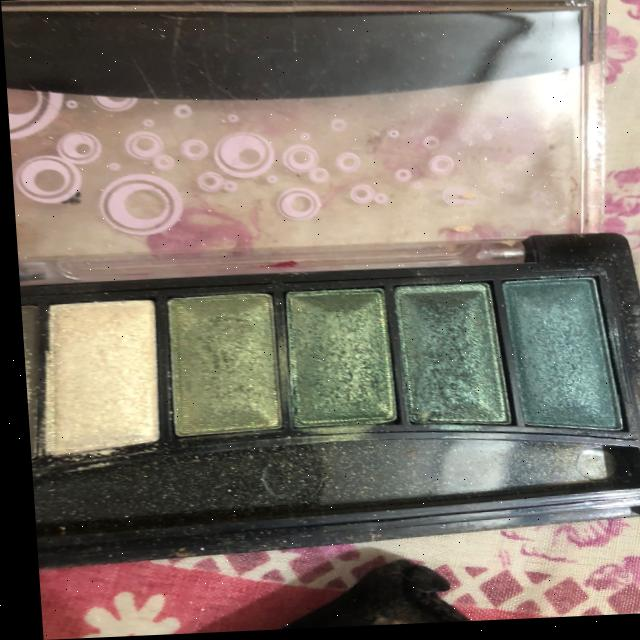highlighter: (15, 268, 637, 472)
